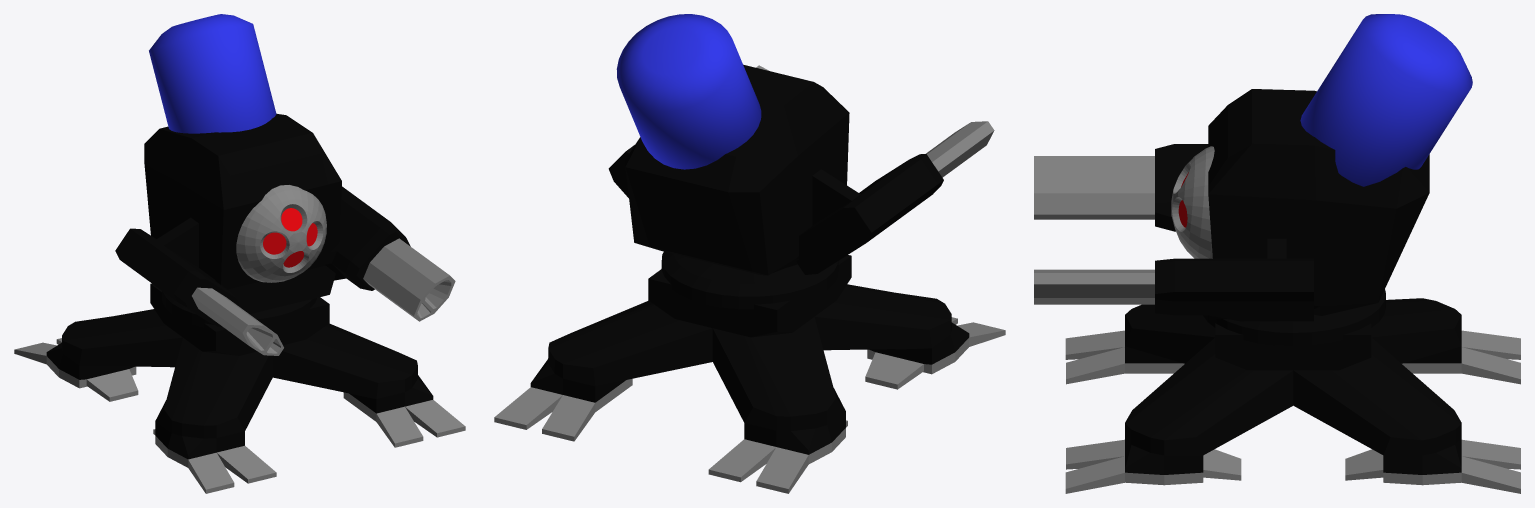
File: tourrel 1.fbx
The picture shows the model from 3 angles, left to right: view 1: azimuth 30°, elevation 25°; view 2: azimuth 150°, elevation 25°; view 3: azimuth 270°, elevation 25°; orthographic projection. The views are drawn at different scales.
Parts seen in each view (by area): view 1: pieds.001, body.001, turret, tank, head, rotation point; view 2: pieds.001, body.001, tank, turret, rotation point; view 3: pieds.001, body.001, turret, tank, rotation point, head.
Part boxes in pixels (x1,y1,x2,y2): pieds.001: [14, 283, 465, 493]; body.001: [144, 113, 341, 314]; turret: [115, 186, 455, 355]; tank: [149, 14, 276, 133]; head: [236, 185, 326, 282]; rotation point: [162, 291, 316, 328]; pieds.001: [494, 255, 1005, 493]; body.001: [625, 64, 849, 275]; tank: [616, 14, 761, 169]; turret: [608, 65, 994, 274]; rotation point: [661, 251, 838, 309]; pieds.001: [1065, 298, 1520, 493]; body.001: [1208, 89, 1429, 319]; turret: [1034, 144, 1313, 321]; tank: [1300, 14, 1472, 186]; rotation point: [1203, 289, 1385, 346]; head: [1171, 146, 1214, 258].
Bounding box in the file's own units: 684 × 858 × 936.
